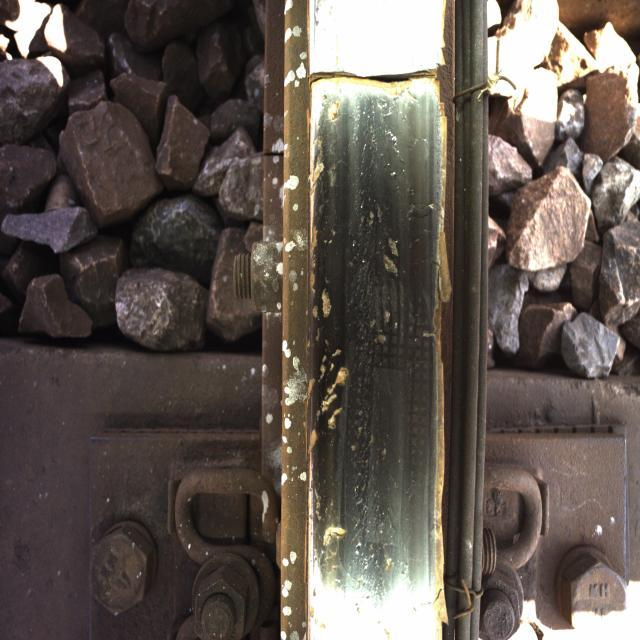crack: (302, 272, 368, 562)
spalling: (289, 23, 456, 138)
